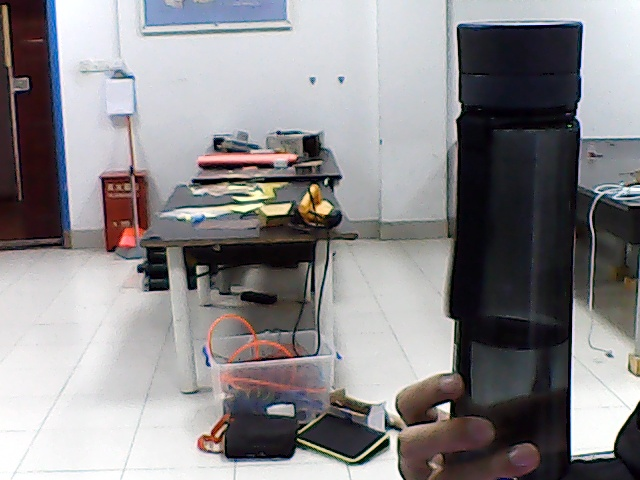cup: (467, 40, 571, 385)
